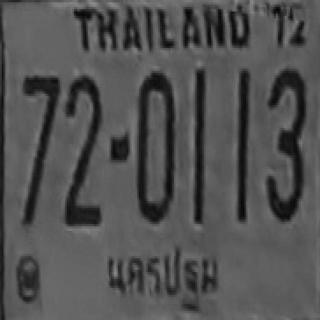N00: (135, 70, 174, 221)
N01: (237, 68, 249, 192), (193, 68, 205, 191)
N02: (65, 74, 102, 195), (63, 105, 100, 224)
N03: (264, 66, 305, 219)
N07: (21, 74, 60, 200), (21, 74, 60, 173), (21, 74, 60, 161)
P28: (98, 237, 224, 306)
